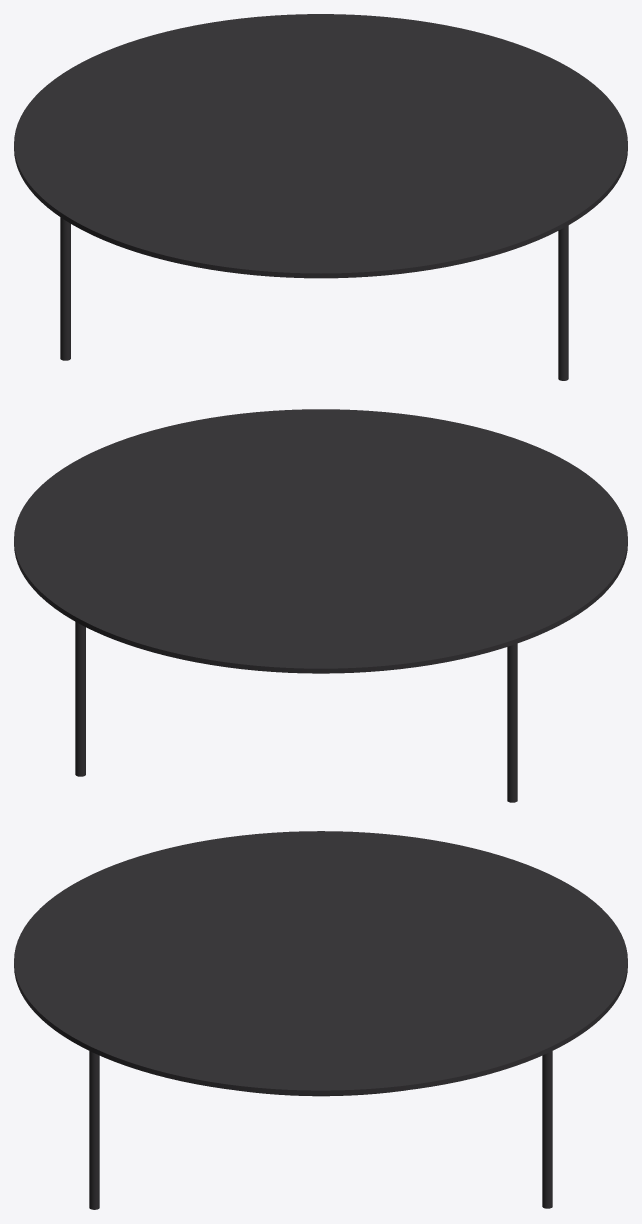
File: outdoor_table.glb
The picture shows the model from 3 angles, top to bottom: view 1: azimuth 30°, elevation 25°; view 2: azimuth 150°, elevation 25°; view 3: azimuth 270°, elevation 25°; orthographic projection.
Parts seen in each view (by area): view 1: Geom3D, Geom3D_ (×2); view 2: Geom3D, Geom3D_ (×2); view 3: Geom3D, Geom3D_ (×2).
Part boxes in pixels (x1=…): Geom3D: x1=14, y1=14, x2=627, y2=278; Geom3D_ (×2): x1=60, y1=217, x2=568, y2=380; Geom3D: x1=14, y1=409, x2=627, y2=673; Geom3D_ (×2): x1=75, y1=622, x2=517, y2=802; Geom3D: x1=14, y1=831, x2=627, y2=1095; Geom3D_ (×2): x1=89, y1=1051, x2=552, y2=1209.
Size of the model in its own units: 1.14 by 0.3757 by 1.14.
Materials: 1 (1 with a texture image).
